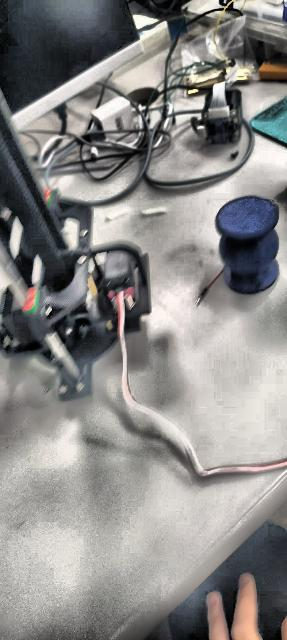blue: (216, 195, 280, 293)
